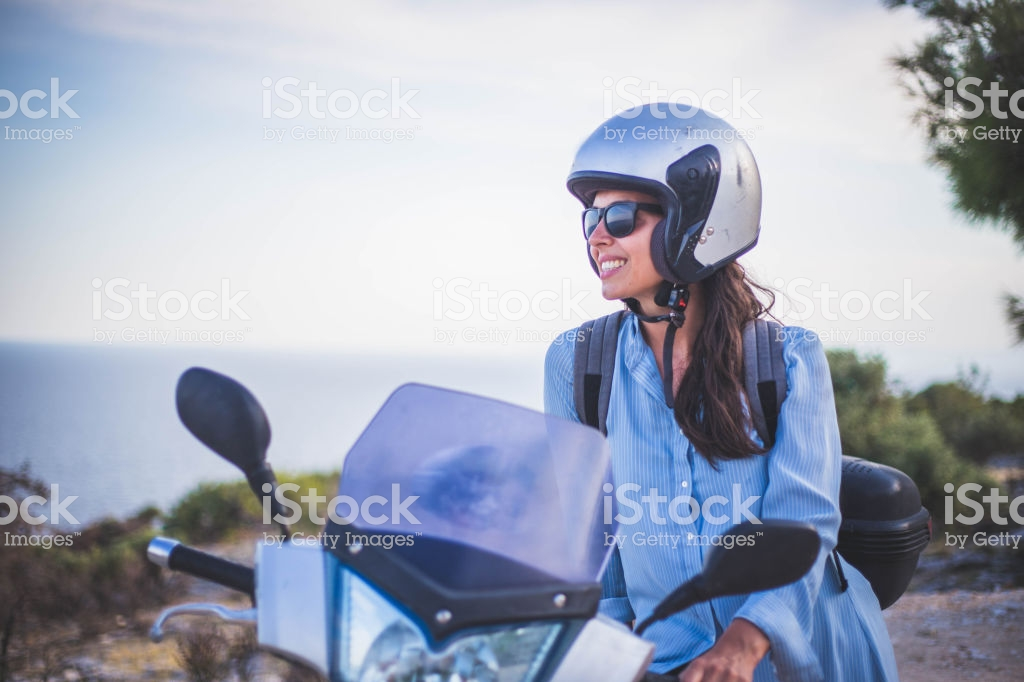helmet: (553, 83, 768, 263)
